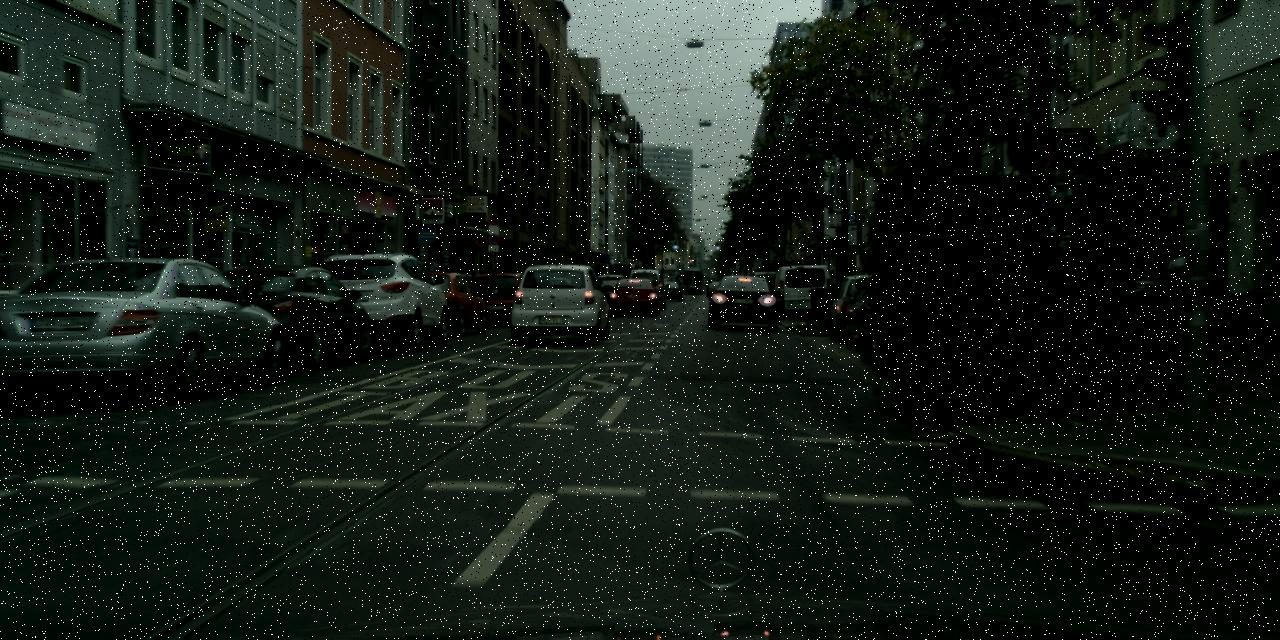ped: (1169, 240, 1216, 356)
